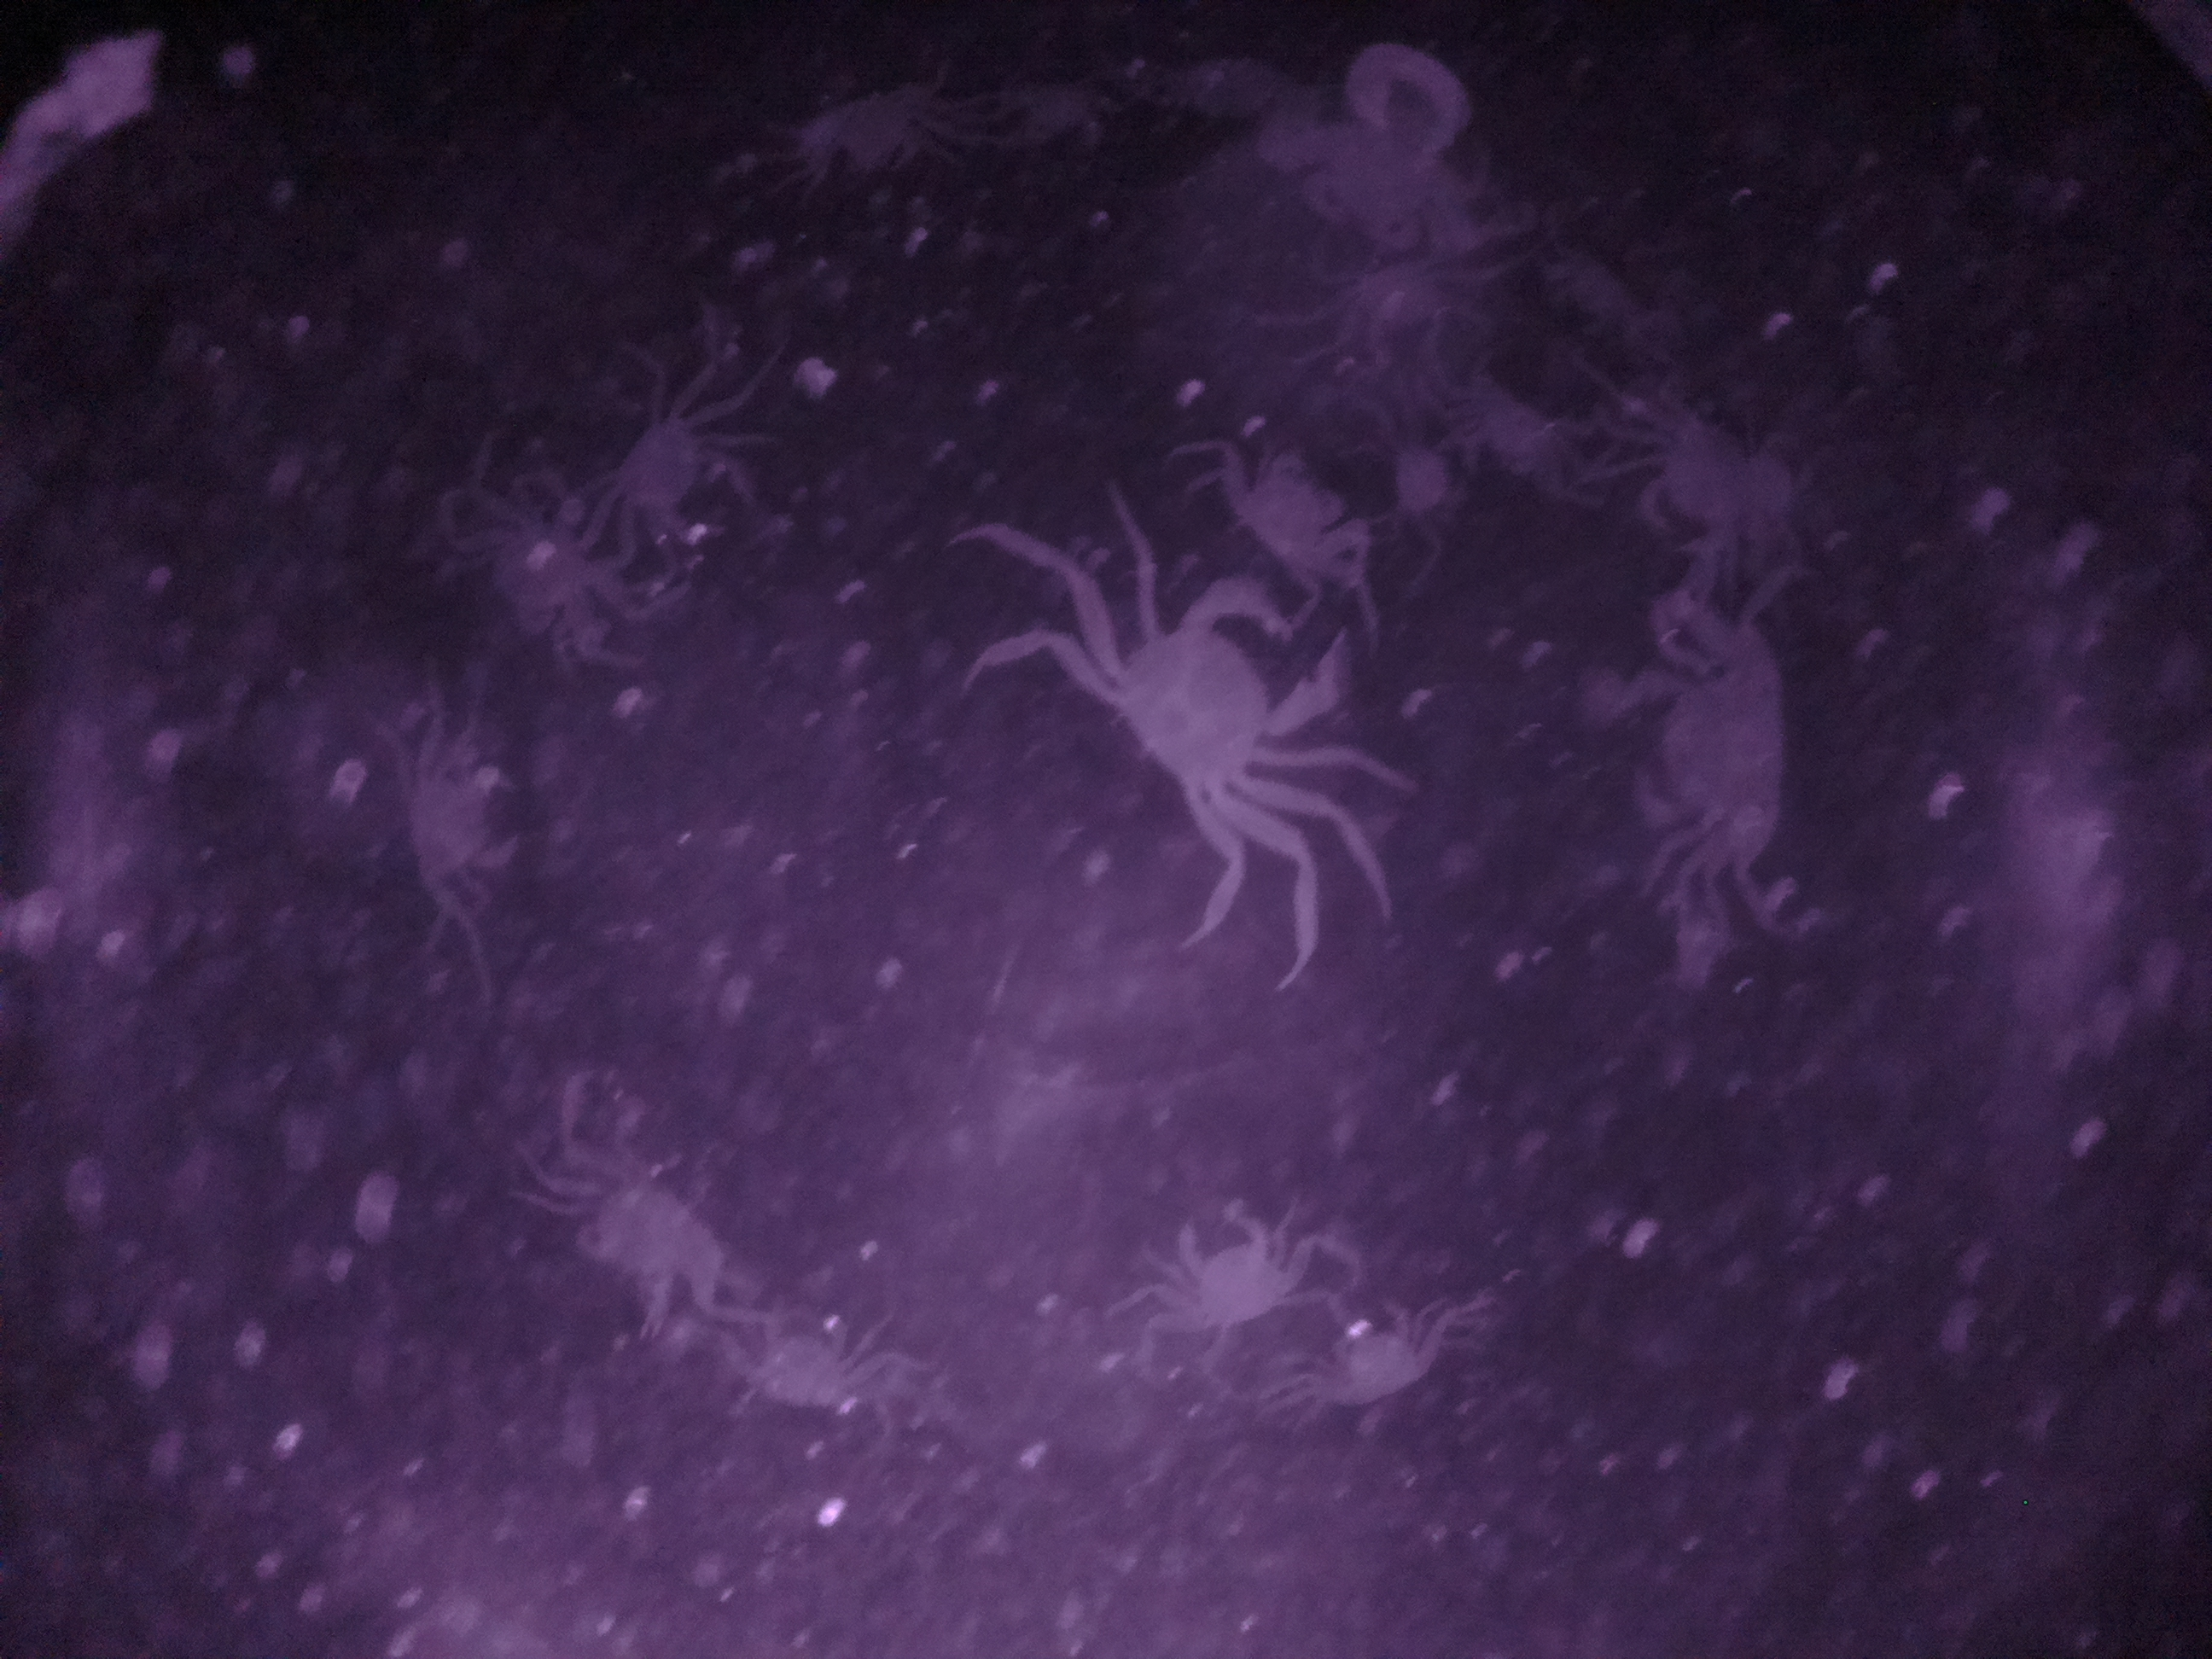Crab: (1040, 584, 1357, 843), (1609, 608, 1829, 894), (383, 718, 547, 918), (1118, 1185, 1324, 1344), (1200, 437, 1379, 619), (599, 392, 758, 565), (1303, 1284, 1458, 1427)
